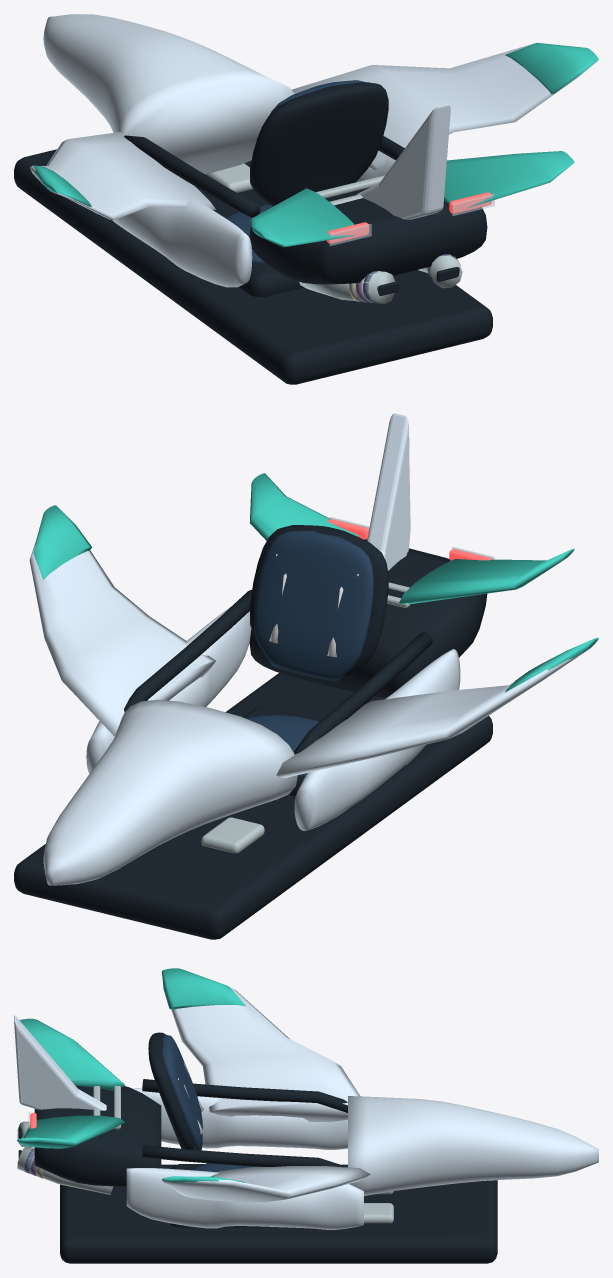
File: glider.glb
3 views of the same model, one above another, from view 1: azimuth 30°, elevation 25°; view 2: azimuth 150°, elevation 25°; view 3: azimuth 270°, elevation 25° (orthographic). The views are drawn at different scales.
Visible parts, largest first — view 1: LOD0, ShowroomDetail; view 2: LOD0; view 3: LOD0.
Boxes of the visible parts, x1=… form: LOD0: x1=14, y1=14, x2=598, y2=384; ShowroomDetail: x1=329, y1=194, x2=494, y2=303; LOD0: x1=14, y1=413, x2=598, y2=939; LOD0: x1=14, y1=968, x2=598, y2=1263.
Size of what is drawn, in the model's own units: 2.14 by 1.04 by 2.54.
